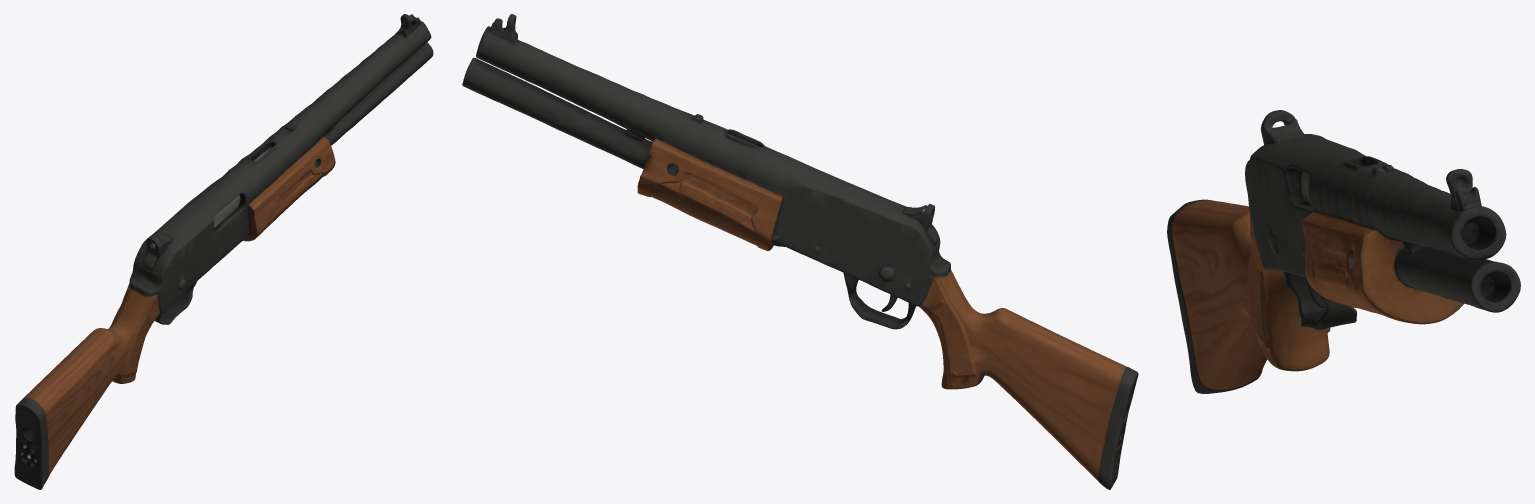
File: shotgun.glb
3 renders of one model, left to right at view 1: azimuth 30°, elevation 25°; view 2: azimuth 150°, elevation 25°; view 3: azimuth 270°, elevation 25°, orthographic. The views are drawn at different scales.
Visible parts, largest first — view 1: geometry_0; view 2: geometry_0; view 3: geometry_0.
Boxes of the visible parts, <box> form: geometry_0: <box>14,14,433,489</box>; geometry_0: <box>462,14,1138,489</box>; geometry_0: <box>1167,110,1520,393</box>.
Bounding box in the file's own units: 0.9 × 0.5768 × 0.2865.
Materials: 1 (1 with a texture image).
